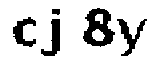8: (81, 5, 115, 48)
c: (11, 15, 40, 48)
j: (39, 6, 68, 59)
y: (117, 14, 147, 57)
